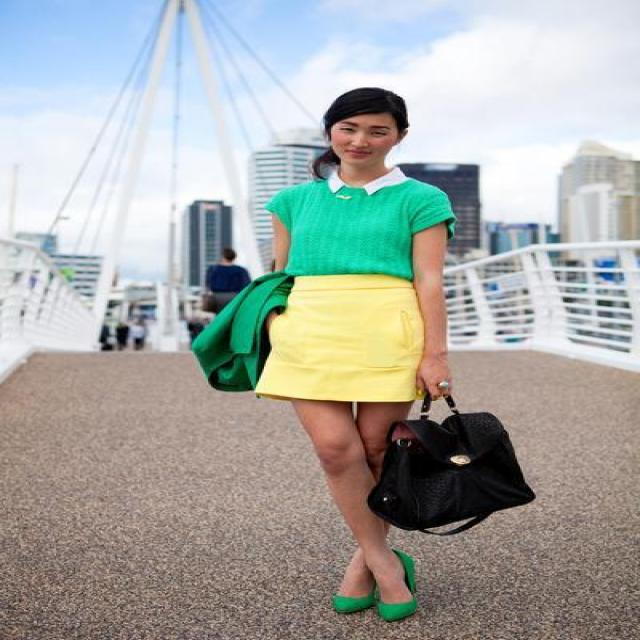bag: (356, 410, 534, 534)
jacket: (188, 272, 298, 390)
shirt: (264, 163, 450, 282)
shoe: (334, 550, 446, 622)
skirt: (255, 276, 422, 406)
